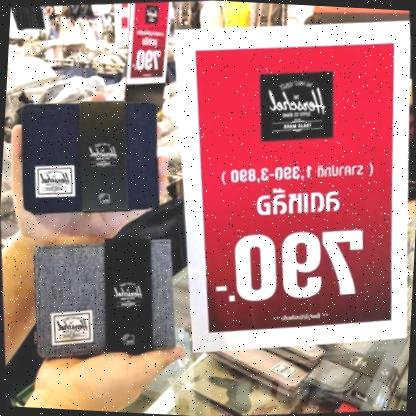bag: (23, 227, 183, 374), (6, 92, 170, 228)
